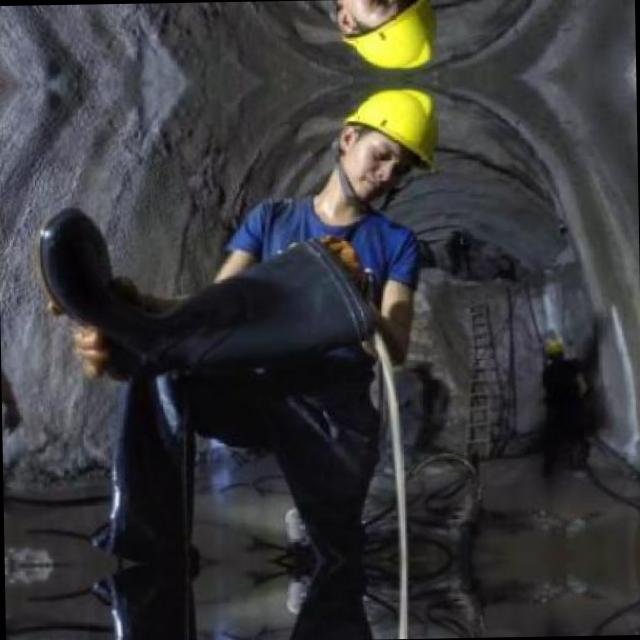helmet: (324, 82, 452, 204), (322, 0, 451, 77)
